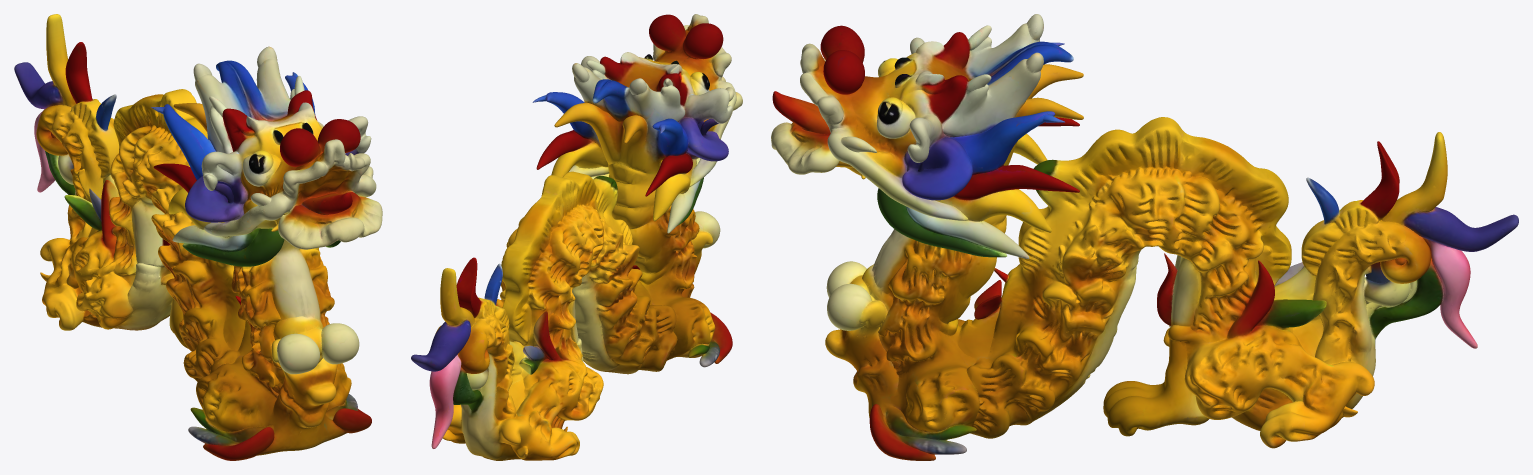
File: tohe-optimized.glb
3 views of the same model, side by side, from view 1: azimuth 30°, elevation 25°; view 2: azimuth 150°, elevation 25°; view 3: azimuth 270°, elevation 25° (orthographic). The views are drawn at different scales.
Visible parts, largest first — view 1: model; view 2: model; view 3: model.
Boxes of the visible parts, left/top/right/bottom form: model: left=14, top=14, right=382, bottom=460; model: left=411, top=14, right=742, bottom=460; model: left=771, top=14, right=1518, bottom=460.
Bounding box in the file's own units: 0.569 × 1.08 × 1.9.
1 material, 1 textured.
